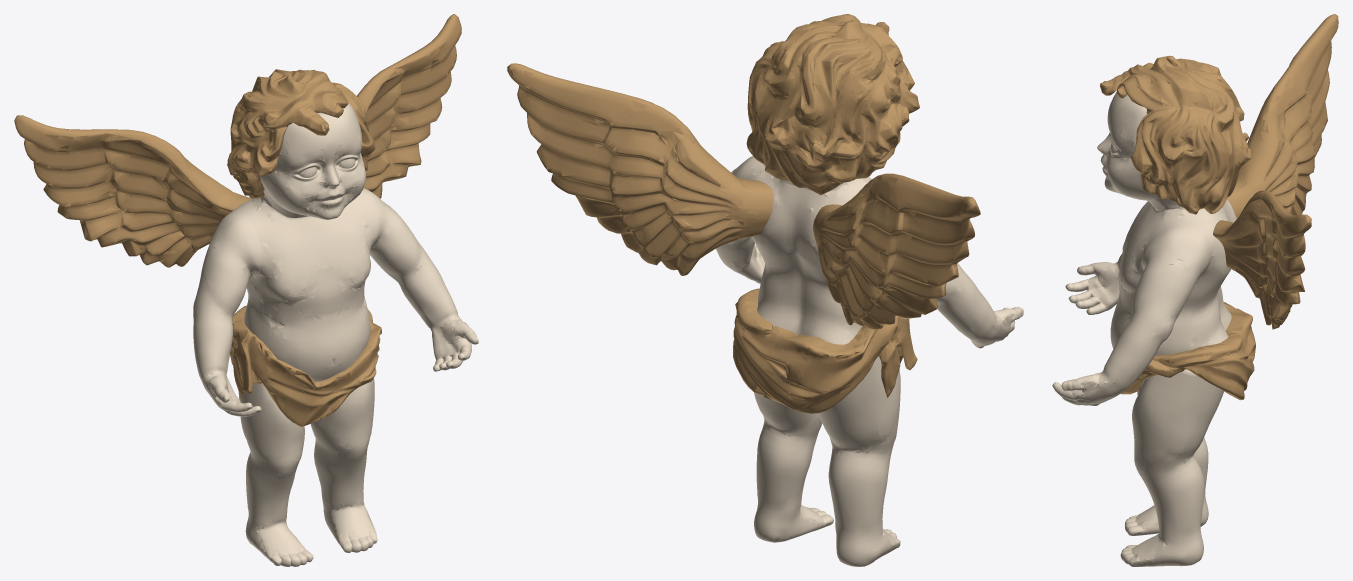
Rendered from angelStatue.FBX.
3 renders of one model, left to right at view 1: azimuth 30°, elevation 25°; view 2: azimuth 150°, elevation 25°; view 3: azimuth 270°, elevation 25°, orthographic. The views are drawn at different scales.
Parts seen in each view (by area): view 1: wing01, body01, arms01, wing02, head01, leg02, leg01, hair02, cloth01, hair01; view 2: wing02, wing01, hair02, cloth01, leg02, body01, leg01, hair01, arms01; view 3: hair01, leg01, arms01, wing01, body01, wing02, cloth01, head01, hair02, leg02.
Boxes of the visible parts, box(x1,y1,x2,y2) form: wing01: box(14, 115, 251, 267); body01: box(233, 196, 373, 381); arms01: box(193, 188, 478, 416); wing02: box(357, 14, 461, 198); head01: box(259, 103, 366, 219); leg02: box(238, 383, 313, 566); leg01: box(310, 378, 377, 552); hair02: box(227, 69, 329, 198); cloth01: box(230, 305, 381, 426); hair01: box(289, 69, 375, 170); wing02: box(507, 63, 773, 275); wing01: box(813, 173, 980, 329); hair02: box(783, 17, 919, 195); cloth01: box(733, 288, 917, 413); leg02: box(818, 356, 900, 566); body01: box(747, 161, 871, 344); leg01: box(754, 392, 833, 542); hair01: box(746, 14, 858, 184); arms01: box(716, 156, 1023, 348); hair01: box(1117, 67, 1251, 214); leg01: box(1120, 369, 1224, 566); arms01: box(1052, 226, 1214, 405); wing01: box(1227, 14, 1338, 218); body01: box(1110, 199, 1236, 379); wing02: box(1213, 190, 1311, 329); cloth01: box(1120, 302, 1255, 400); head01: box(1097, 91, 1204, 211); hair02: box(1100, 55, 1248, 141); leg02: box(1125, 379, 1208, 535).
Size of the model in its own units: 40.85 by 42.76 by 23.09.
